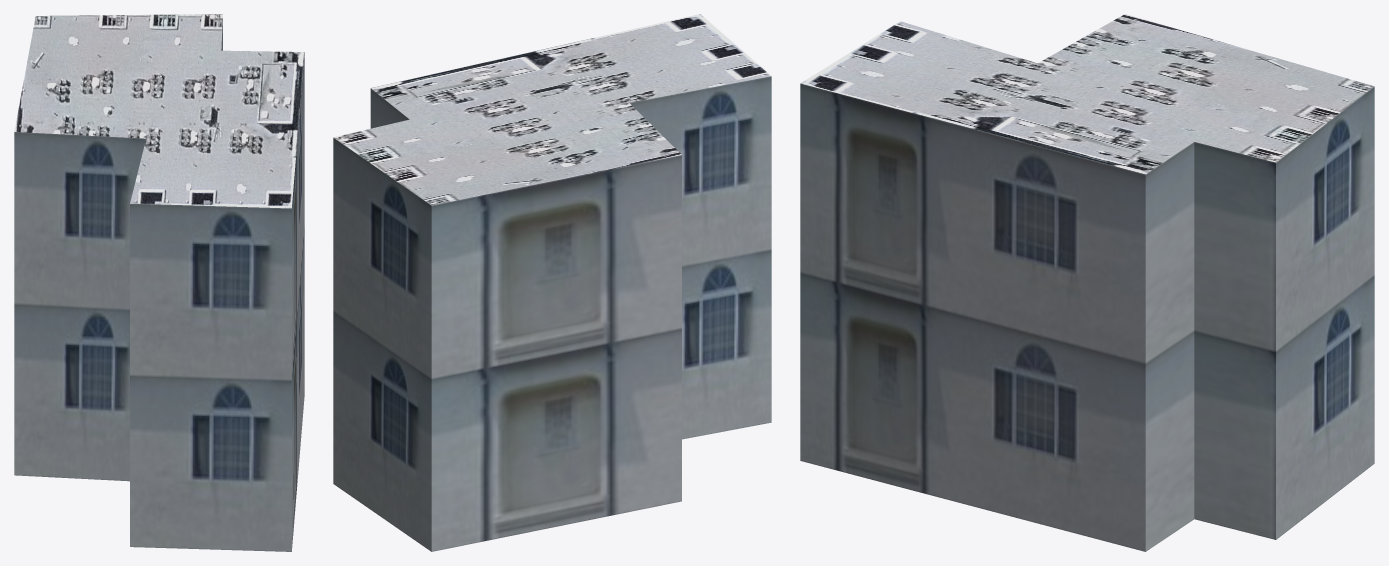
Rendered from ResTex__5330.fbx.
The picture shows the model from 3 angles, left to right: view 1: azimuth 30°, elevation 25°; view 2: azimuth 150°, elevation 25°; view 3: azimuth 270°, elevation 25°; orthographic projection. The views are drawn at different scales.
Visible parts, largest first — view 1: CityEngineMaterial_17_m, CityEngineMaterial_2_m; view 2: CityEngineMaterial_17_m, CityEngineMaterial_2_m; view 3: CityEngineMaterial_17_m, CityEngineMaterial_2_m.
Boxes of the visible parts, <box> form: CityEngineMaterial_17_m: <box>14,18,304,551</box>; CityEngineMaterial_2_m: <box>14,14,304,208</box>; CityEngineMaterial_17_m: <box>333,76,771,551</box>; CityEngineMaterial_2_m: <box>333,14,771,205</box>; CityEngineMaterial_17_m: <box>800,83,1374,551</box>; CityEngineMaterial_2_m: <box>800,14,1373,174</box>.
Bounding box in the file's own units: 5.48 × 6 × 8.27.
Materials: 2 (2 with a texture image).
